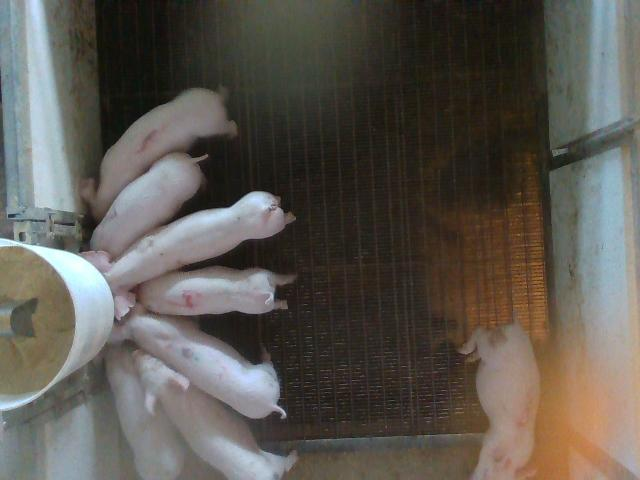pig-1: (81, 89, 238, 219)
pig-3: (459, 319, 540, 478)
pig-4: (138, 266, 296, 315)
